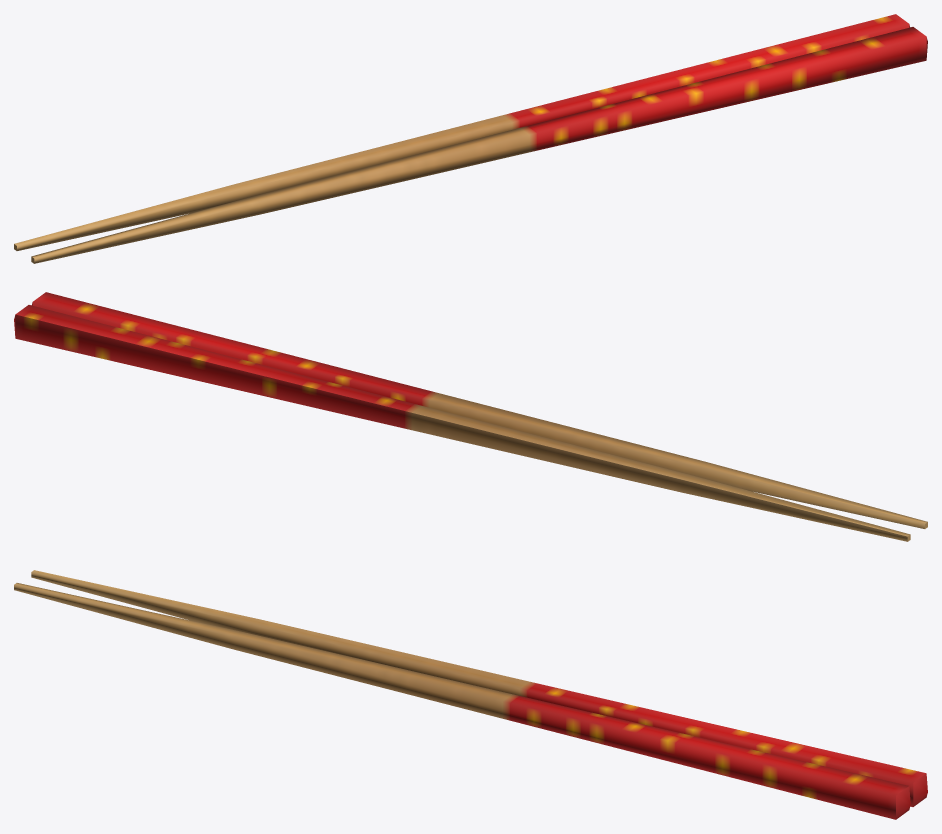
File: KR_Chopsticks_01_01.fbx
3 views of the same model, one above another, from view 1: azimuth 30°, elevation 25°; view 2: azimuth 150°, elevation 25°; view 3: azimuth 330°, elevation 25° (orthographic).
Parts seen in each view (by area): view 1: chopsticks_02, chopsticks_01; view 2: chopsticks_01, chopsticks_02; view 3: chopsticks_02, chopsticks_01.
Part boxes in pixels (<box>): chopsticks_02: <box>31,27,927,263</box>; chopsticks_01: <box>14,14,910,250</box>; chopsticks_01: <box>14,305,910,541</box>; chopsticks_02: <box>31,292,927,528</box>; chopsticks_02: <box>14,583,910,819</box>; chopsticks_01: <box>31,570,927,806</box>.
Size of the model in its own units: 23.21 by 0.6 by 1.37.
